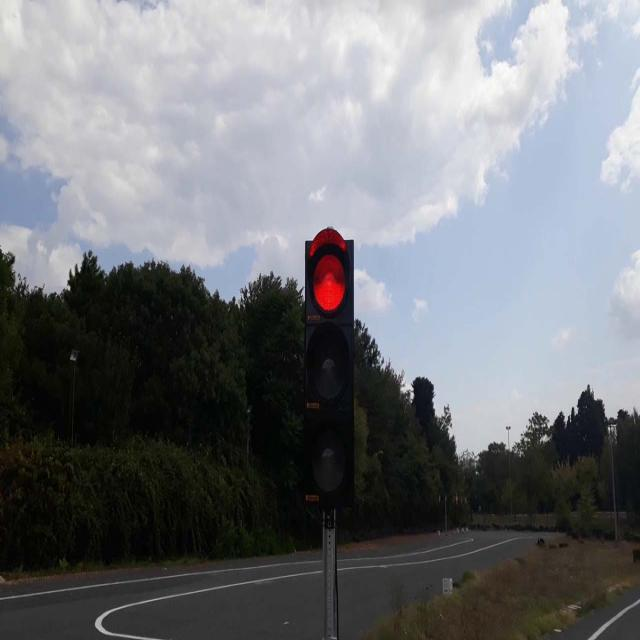kirmizi: (306, 228, 354, 504)
